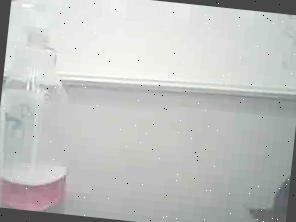hazard: (0, 0, 98, 215)
